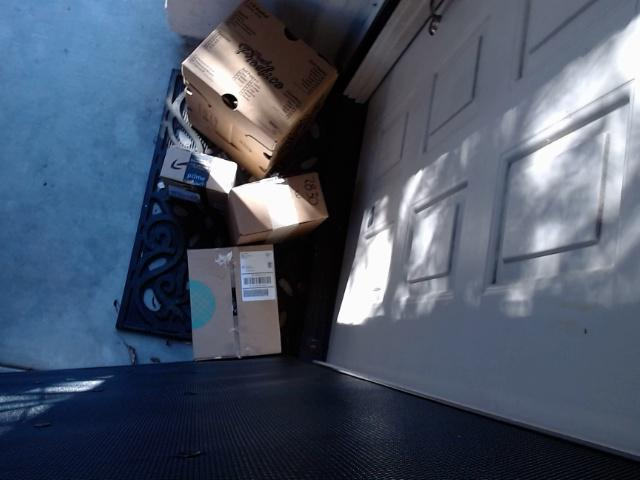box: (181, 0, 337, 178), (187, 244, 281, 360), (228, 172, 327, 244), (159, 144, 237, 208)
